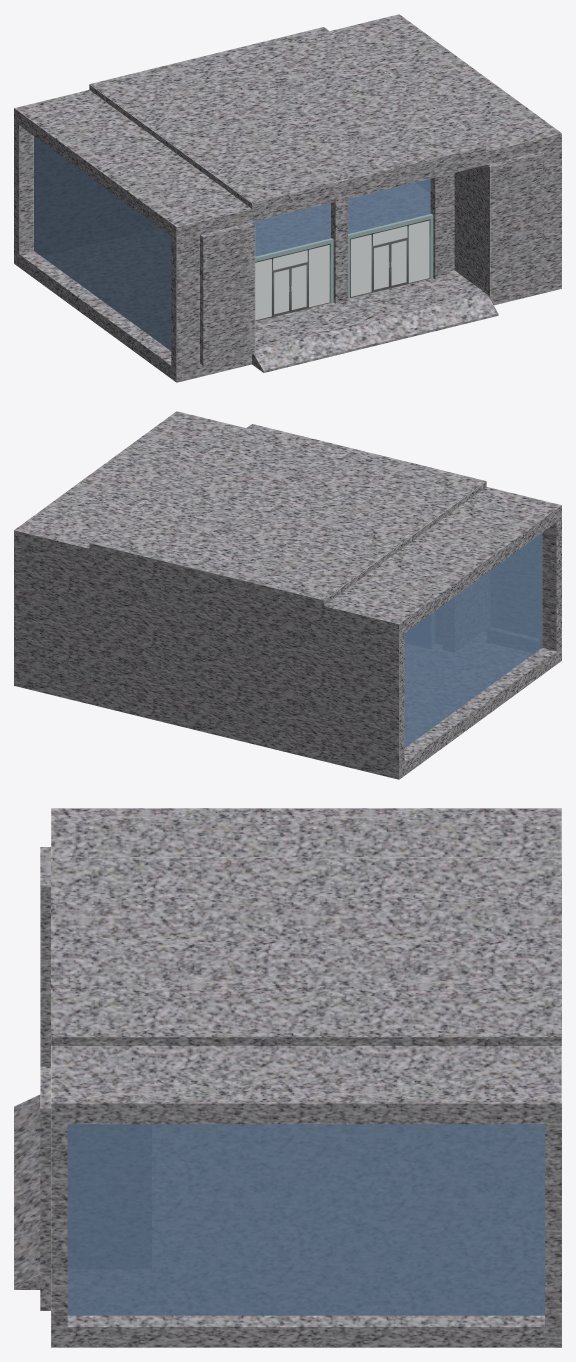
File: museum.fbx
The picture shows the model from 3 angles, top to bottom: view 1: azimuth 30°, elevation 25°; view 2: azimuth 150°, elevation 25°; view 3: azimuth 270°, elevation 25°; orthographic projection. The views are drawn at different scales.
Parts seen in each view (by area): view 1: wall, door2, door1; view 2: wall; view 3: wall.
Part boxes in pixels (x1,y1,x2,y2): wall: (14, 14, 561, 382); door2: (348, 214, 433, 298); door1: (255, 238, 333, 321); wall: (14, 411, 561, 779); wall: (14, 808, 561, 1347).
Bounding box in the file's own units: 17.46 × 6.98 × 13.7.
4 materials, 3 textured.
